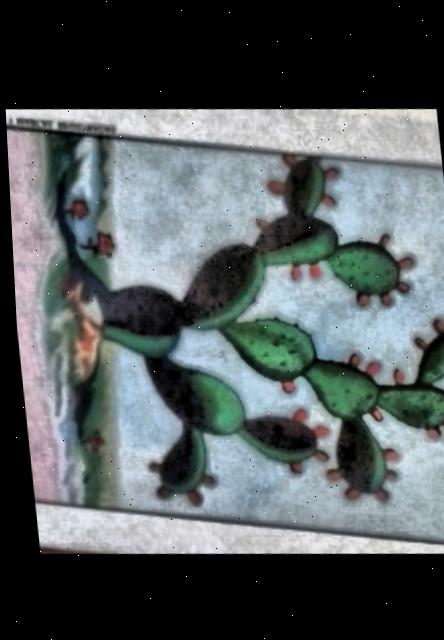El Nopal: (5, 121, 444, 536)
